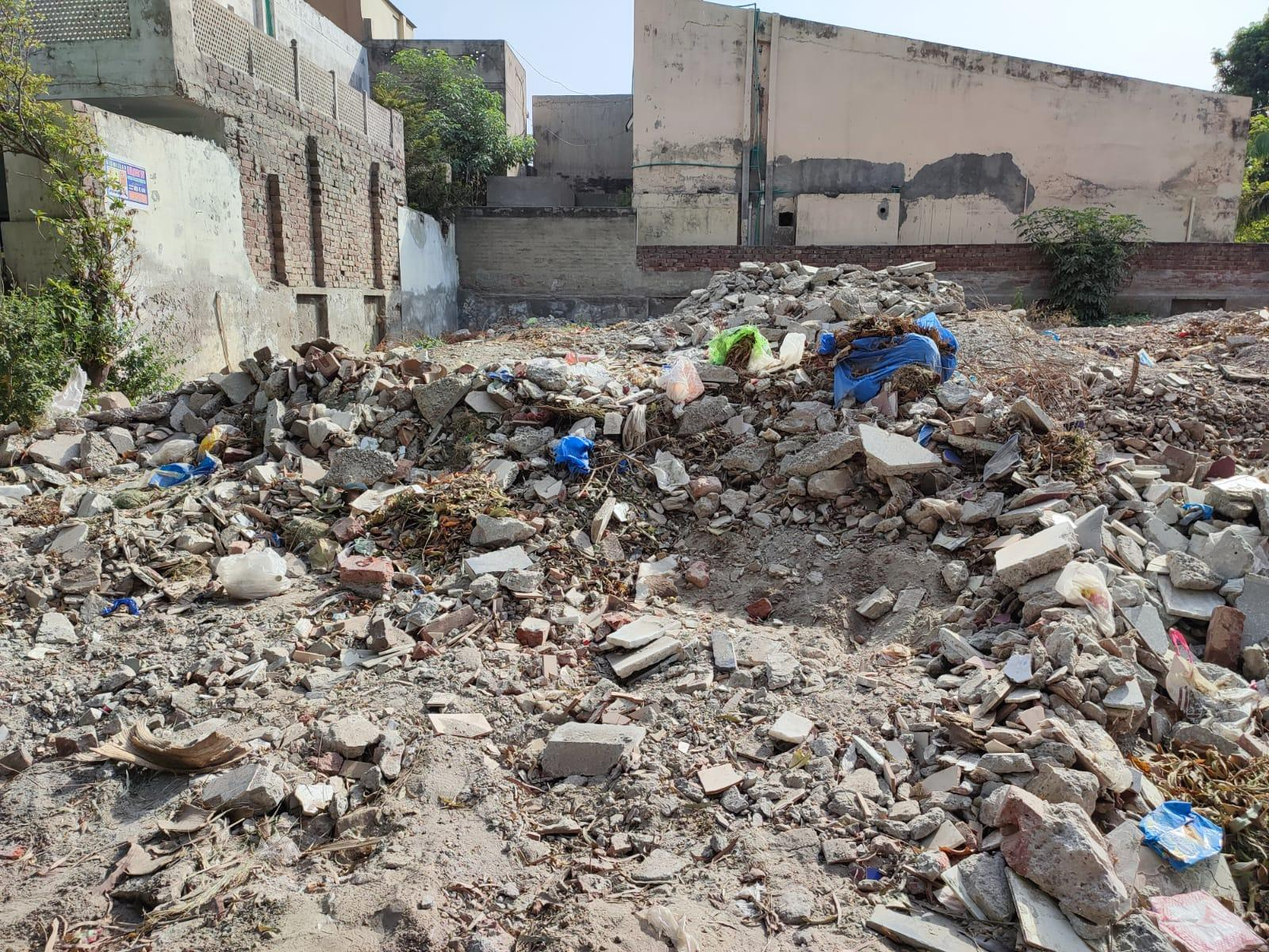garbage: (522, 276, 970, 511), (1101, 752, 1254, 894)
